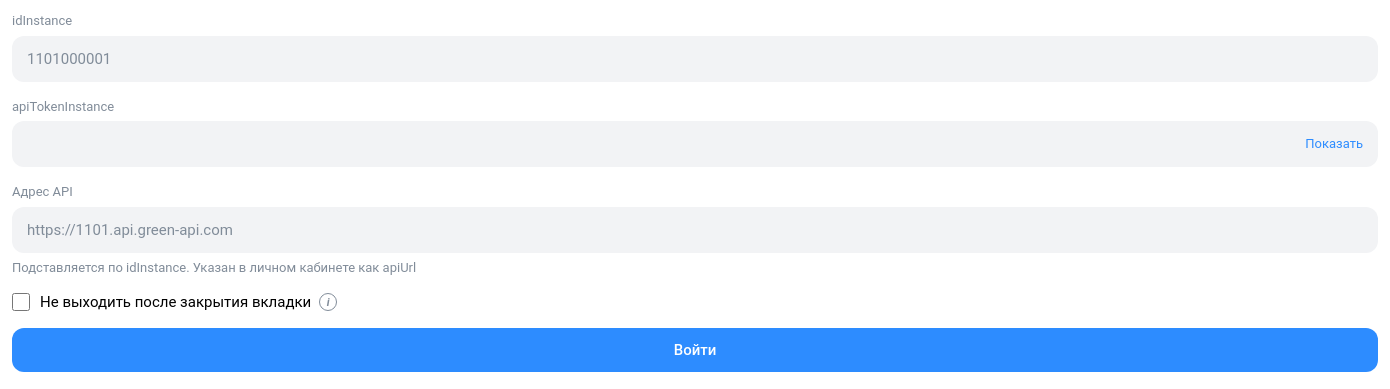
Test: LoginForm › fills apiUrl from idInstance
The width and height of the screenshot is (1390, 389).
Type "3100227" into the field labelled "idInstance" at (695, 58), box top-left (13, 36), bottom-right (1377, 80)
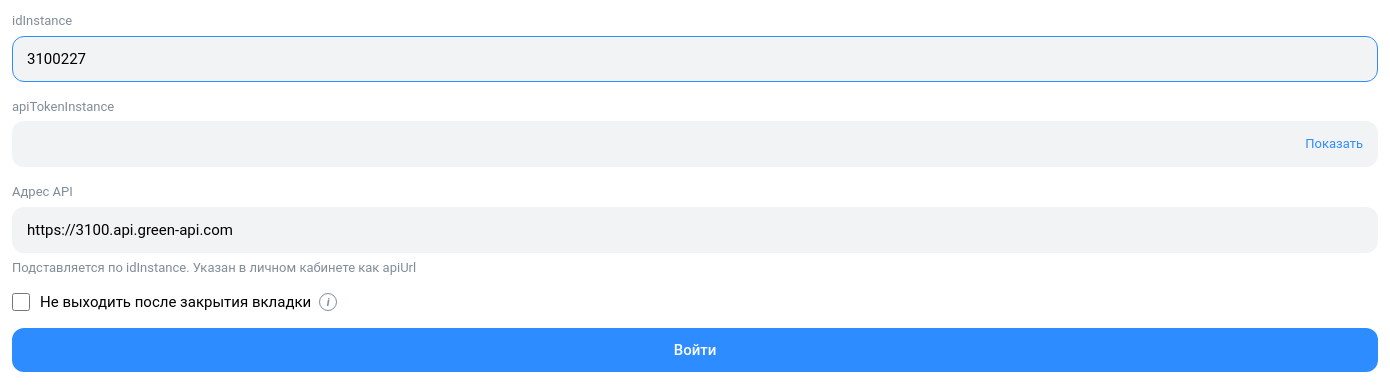
expect the field labelled "Адрес API" holds "https://3100.api.green-api.com": met, box top-left (13, 208), bottom-right (1377, 252)
